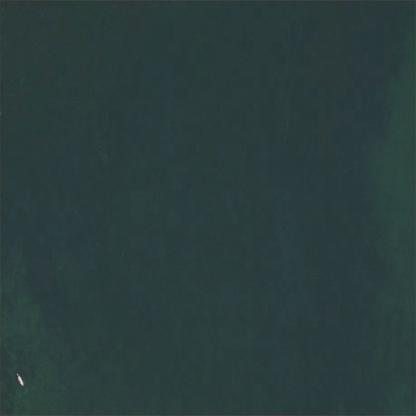ship: (0, 371, 7, 386)
